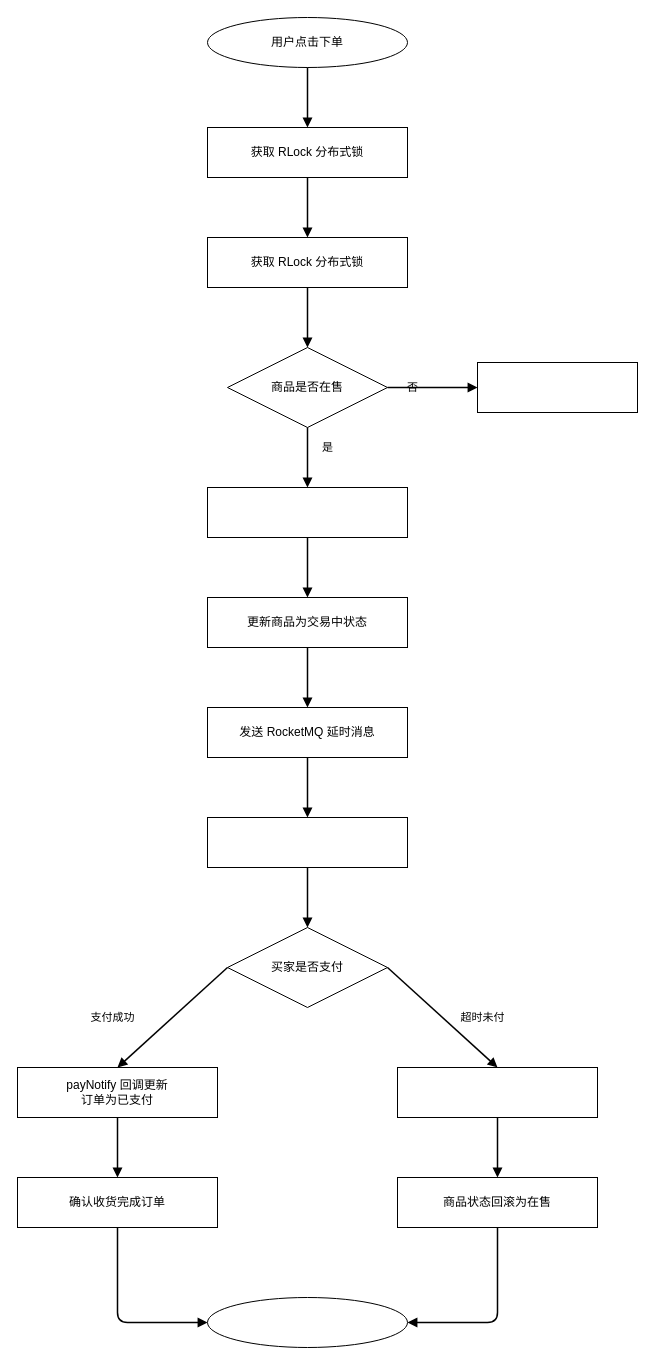
The diagram is 655 pixels wide and 1365 high, and some of its shapes have lost their labels. The shapes that lost their labels are listed below. From the top down, each one's box as (x1, y1, x2, y2) in pixels, then its label:
(476, 362, 638, 412): 返回错误提示
(206, 486, 408, 538): TransactionTemplate 事务内创建订单
(206, 816, 408, 868): 释放锁并返回订单号
(396, 1066, 598, 1118): OrderTimeoutListener 校验后取消订单
(206, 1296, 408, 1348): 流程结束
